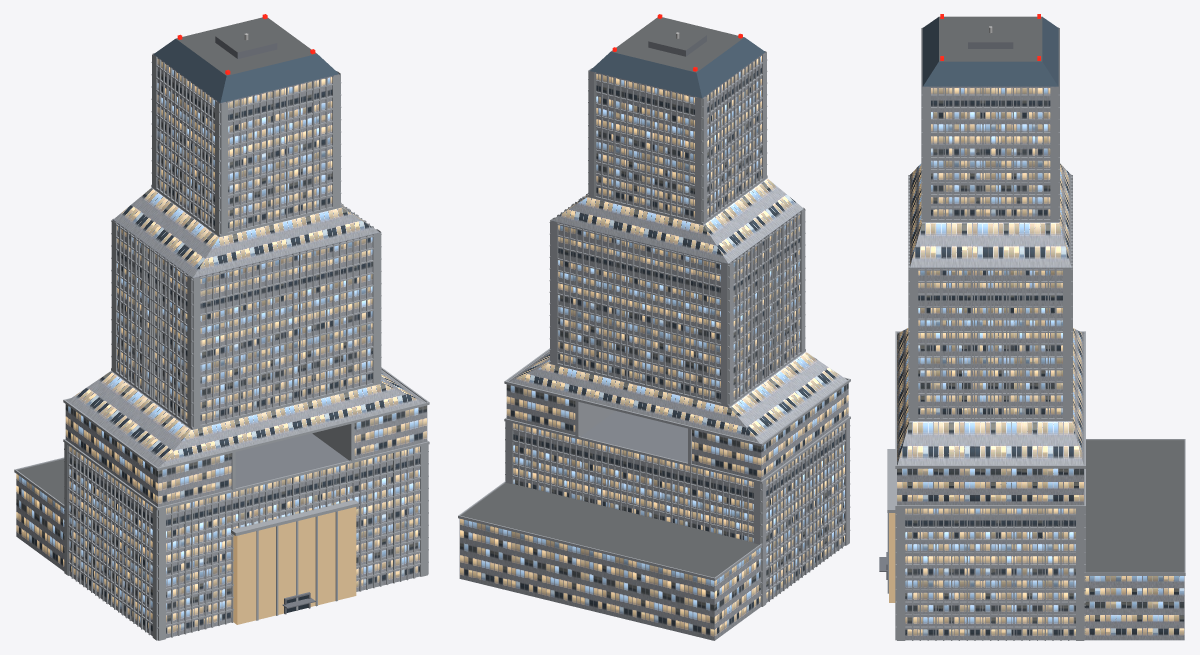
The model's file is nec_supertower.glb.
3 views of the same model, side by side, from view 1: azimuth 30°, elevation 25°; view 2: azimuth 150°, elevation 25°; view 3: azimuth 270°, elevation 25° (orthographic). The views are drawn at different scales.
Parts seen in each view (by area): view 1: nec_supertower; view 2: nec_supertower; view 3: nec_supertower.
Part boxes in pixels (x1,y1,x2,y2): nec_supertower: [14, 14, 429, 640]; nec_supertower: [458, 14, 850, 640]; nec_supertower: [879, 14, 1185, 640].
Size of the model in its own units: 95 by 180 by 91.5.
Materials: 2 (2 with a texture image).
